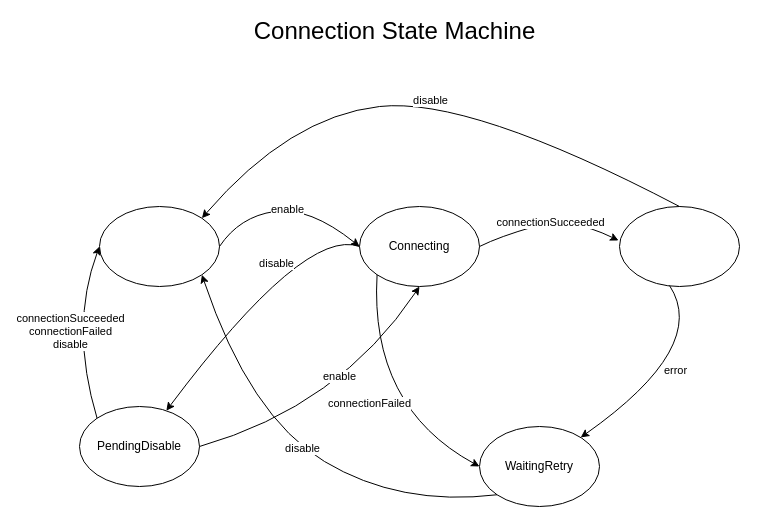
Image size: 758x524. Some labels were removed from this diagram. Here are the shapes that lost their labels. From the top down, the centre of each, then its label:
the point at 159,246: Idle
the point at 679,246: Connected
